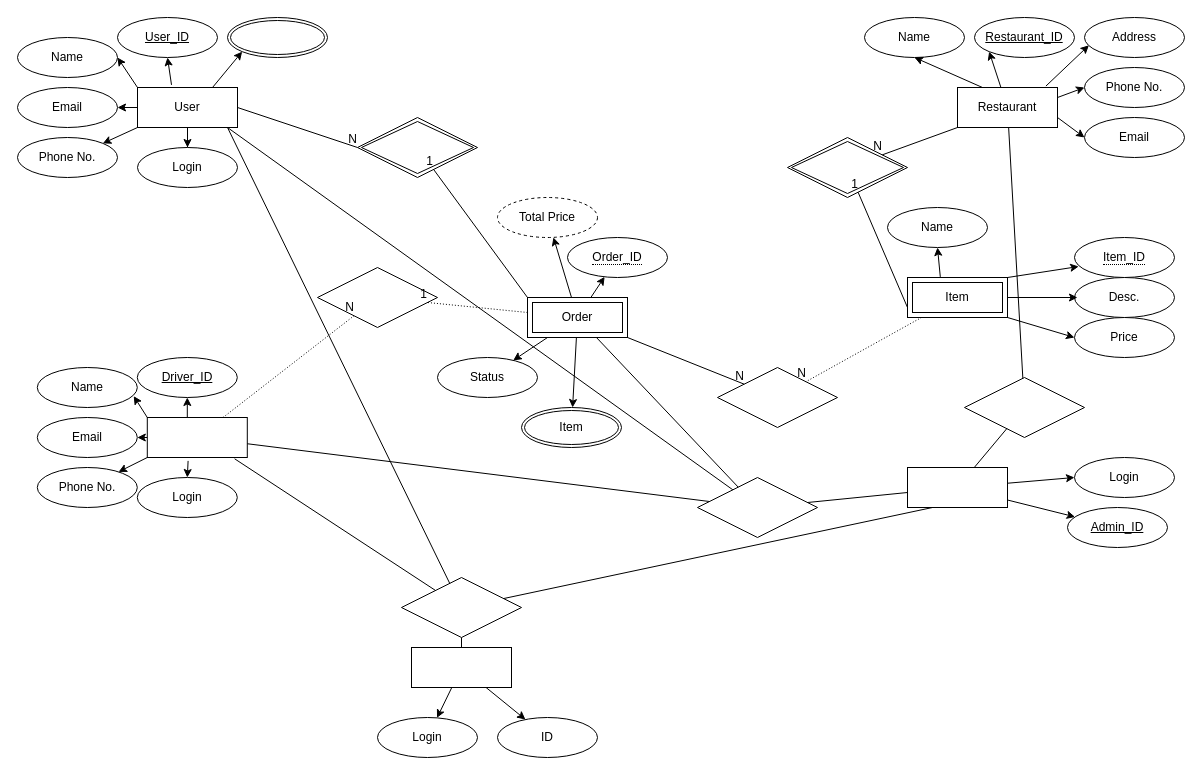
Some shapes in this 1202 by 775 pixel diagram are drawn without their labels. The shapes that lost their labels are listed below. From the top down, each one's centre as x and y in pixels, then its label:
At point (277, 37): "Addresses".
At point (417, 147): "Decides".
At point (847, 167): "Offered_by".
At point (377, 297): "Accepted_by".
At point (777, 397): "Added_to".
At point (1024, 407): "Manages".
At point (196, 437): "Delivery Driver".
At point (757, 507): "Views".
At point (957, 487): "Admin".
At point (461, 607): "Logs In".
At point (461, 667): "Login Panel".
